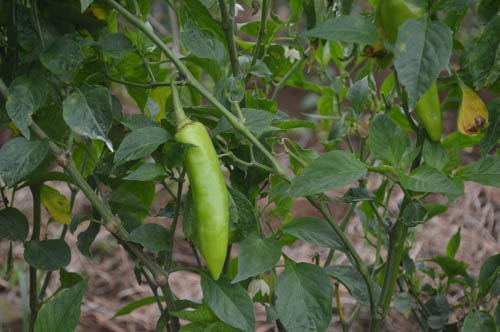ChiliPepper: (182, 123, 226, 285), (414, 89, 440, 141)
